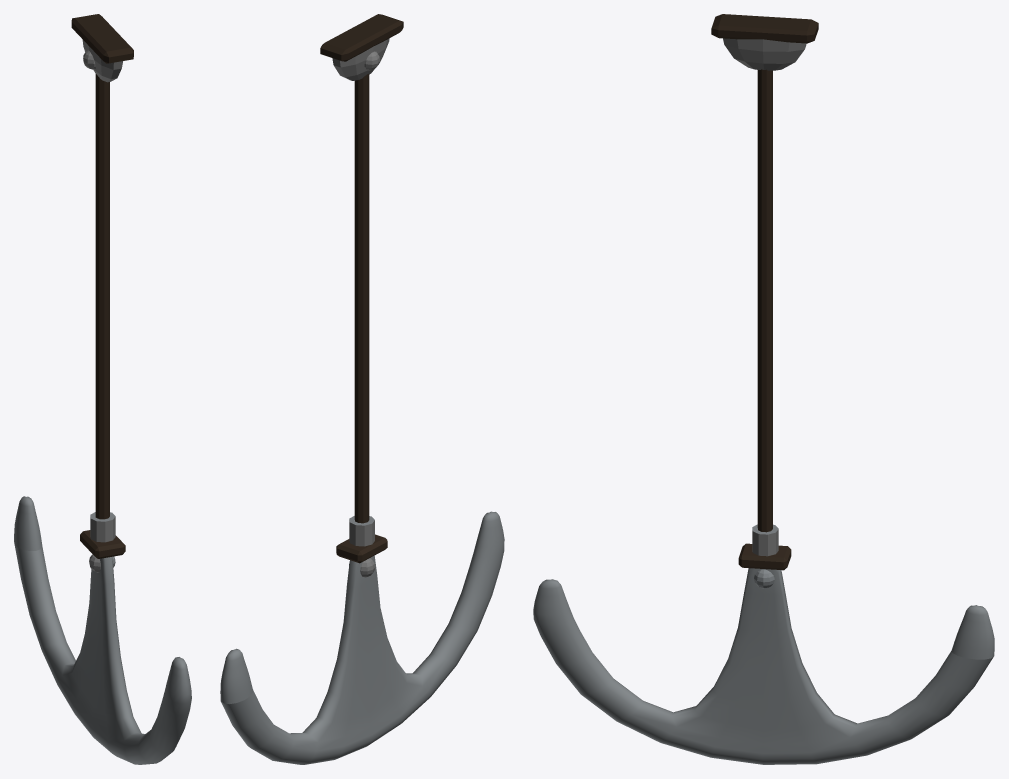
File: axe1.fbx
The picture shows the model from 3 angles, left to right: view 1: azimuth 30°, elevation 25°; view 2: azimuth 150°, elevation 25°; view 3: azimuth 270°, elevation 25°; orthographic projection. The views are drawn at different scales.
Parts seen in each view (by area): view 1: axe1; view 2: axe1; view 3: axe1.
Boxes of the visible parts, x1=… form: axe1: x1=14, y1=14, x2=191, y2=764; axe1: x1=220, y1=14, x2=504, y2=764; axe1: x1=533, y1=14, x2=994, y2=764.
Bounding box in the file's own units: 0.2512 × 2.35 × 1.33.
